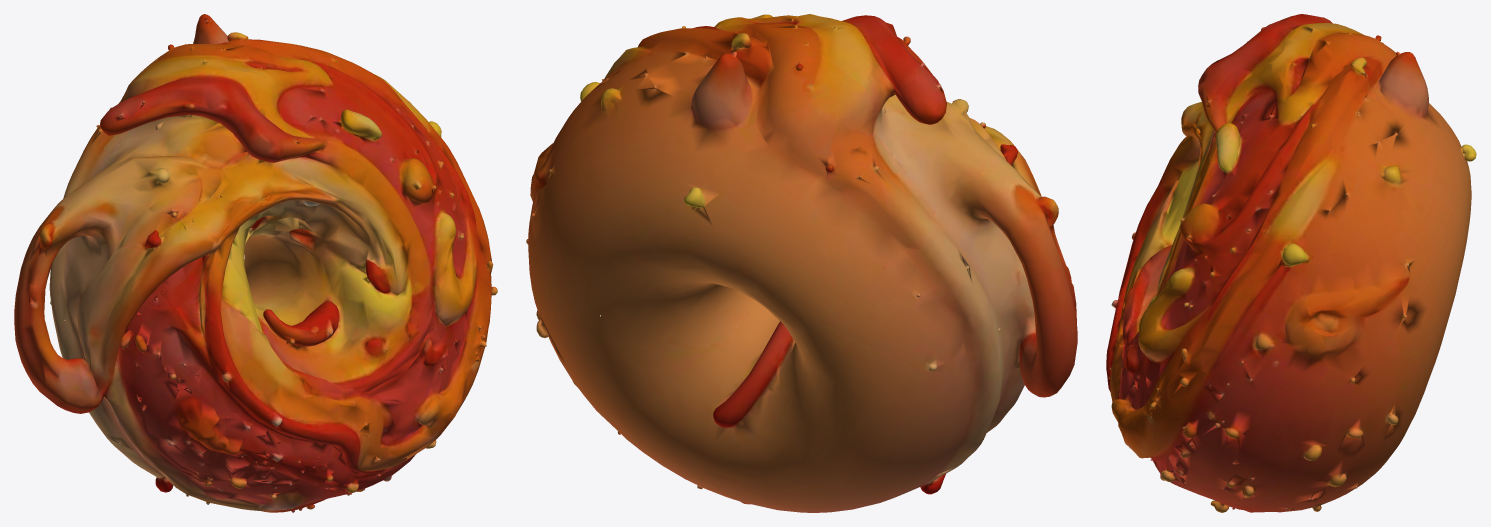
Rendered from magma_fist.glb.
3 renders of one model, left to right at view 1: azimuth 30°, elevation 25°; view 2: azimuth 150°, elevation 25°; view 3: azimuth 270°, elevation 25°, orthographic. The views are drawn at different scales.
Visible parts, largest first — view 1: tripo_node_aaa4b4ef-065d-47f0-ba12-07f42651307c; view 2: tripo_node_aaa4b4ef-065d-47f0-ba12-07f42651307c; view 3: tripo_node_aaa4b4ef-065d-47f0-ba12-07f42651307c.
Boxes of the visible parts, box(x1,y1,x2,y2) form: tripo_node_aaa4b4ef-065d-47f0-ba12-07f42651307c: box(14, 14, 497, 512); tripo_node_aaa4b4ef-065d-47f0-ba12-07f42651307c: box(526, 14, 1077, 512); tripo_node_aaa4b4ef-065d-47f0-ba12-07f42651307c: box(1106, 14, 1476, 512).
Size of the model in its own units: 0.9798 by 0.8932 by 0.6898.
Materials: 1 (1 with a texture image).
